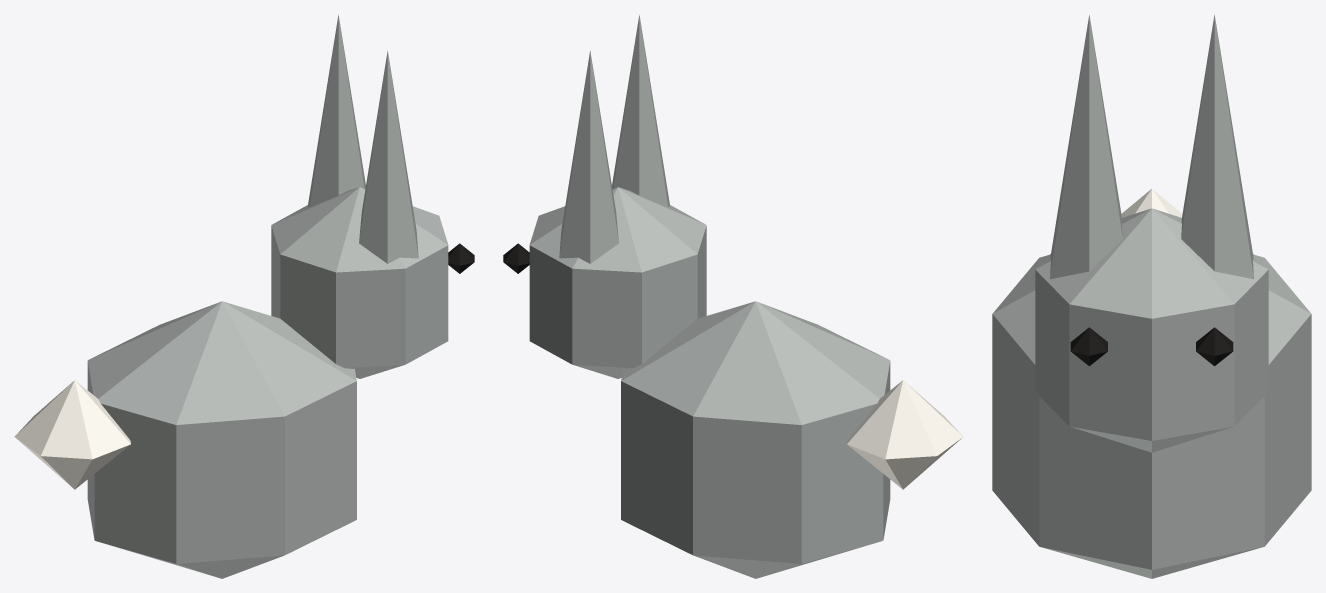
Rendered from rabbit.obj.
3 renders of one model, left to right at view 1: azimuth 30°, elevation 25°; view 2: azimuth 150°, elevation 25°; view 3: azimuth 270°, elevation 25°, orthographic. The views are drawn at different scales.
Bounding box in the file's own units: 1.29 × 1.5 × 0.6625.
3 materials, 3 textured.
